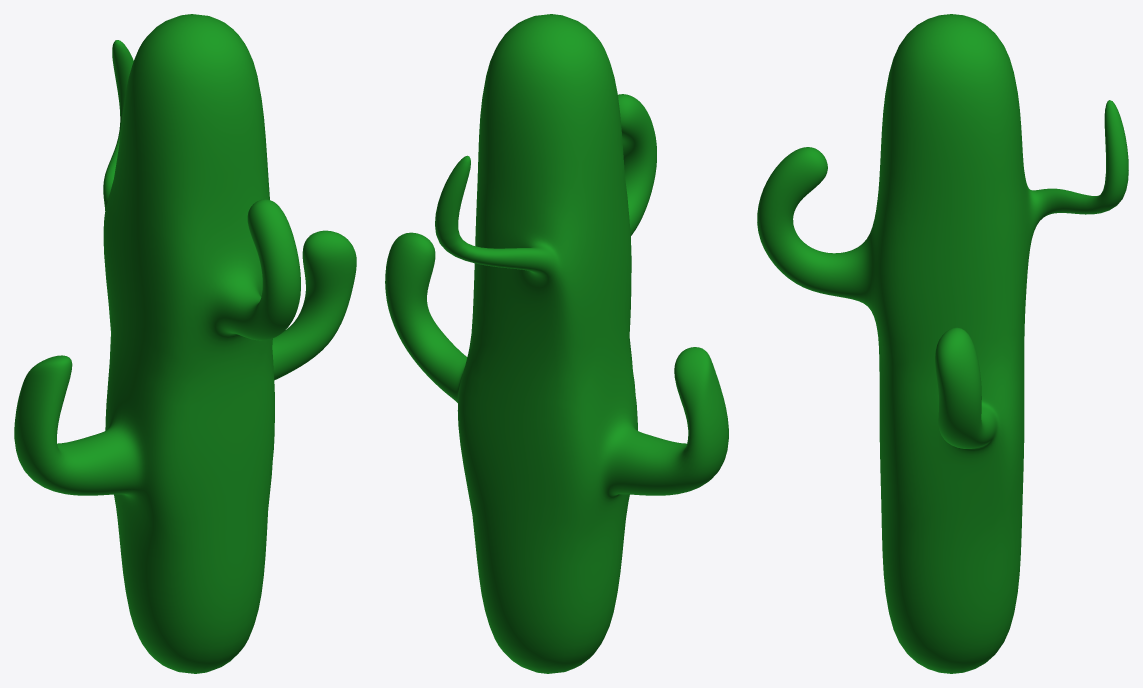
File: Cactus.fbx
The picture shows the model from 3 angles, left to right: view 1: azimuth 30°, elevation 25°; view 2: azimuth 150°, elevation 25°; view 3: azimuth 270°, elevation 25°; orthographic projection.
Parts seen in each view (by area): view 1: Cube; view 2: Cube; view 3: Cube.
Boxes of the visible parts, left/top/right/bottom form: Cube: left=14, top=14, right=356, bottom=673; Cube: left=385, top=14, right=728, bottom=673; Cube: left=757, top=14, right=1128, bottom=673.
Size of the model in its own units: 512 by 953 by 495.
